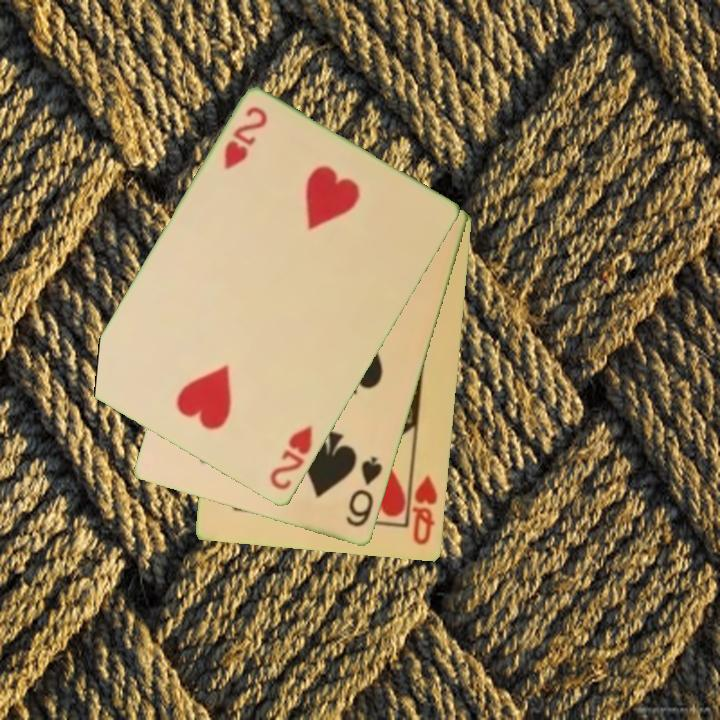2h: (266, 422, 316, 494), (220, 103, 271, 173)
6s: (342, 453, 386, 531)
Qh: (405, 466, 441, 548)
